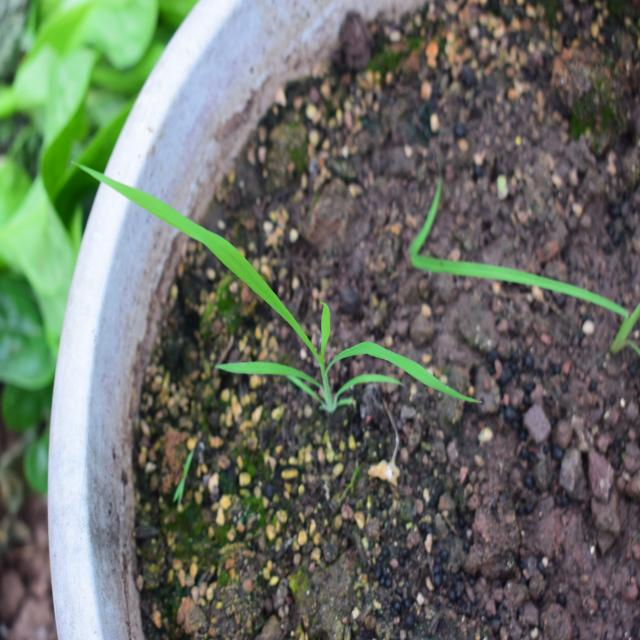barnyard_grass: (85, 141, 477, 455)
